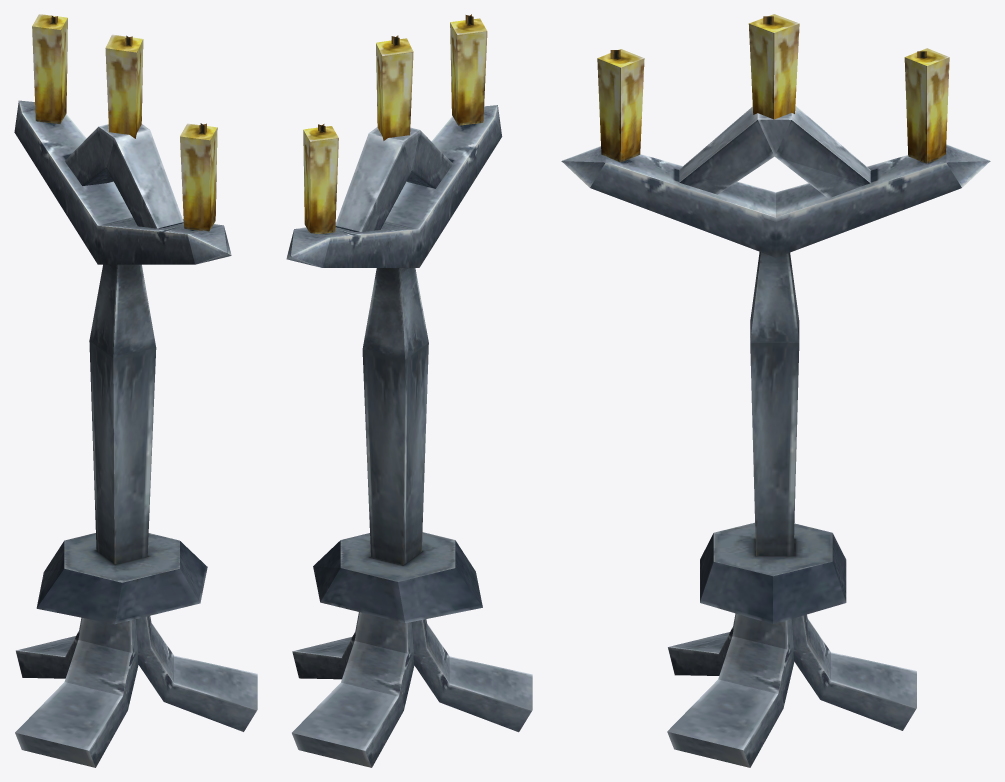
File: candelabra_01.fbx
3 renders of one model, left to right at view 1: azimuth 30°, elevation 25°; view 2: azimuth 150°, elevation 25°; view 3: azimuth 270°, elevation 25°, orthographic. The views are drawn at different scales.
Visible parts, largest first — view 1: obj0.012; view 2: obj0.012; view 3: obj0.012.
Part boxes in pixels (x1,y1,x2,y2): obj0.012: (14, 14, 257, 767); obj0.012: (286, 14, 532, 767); obj0.012: (561, 14, 990, 767).
Bounding box in the file's own units: 0.982 × 2.63 × 1.46.
